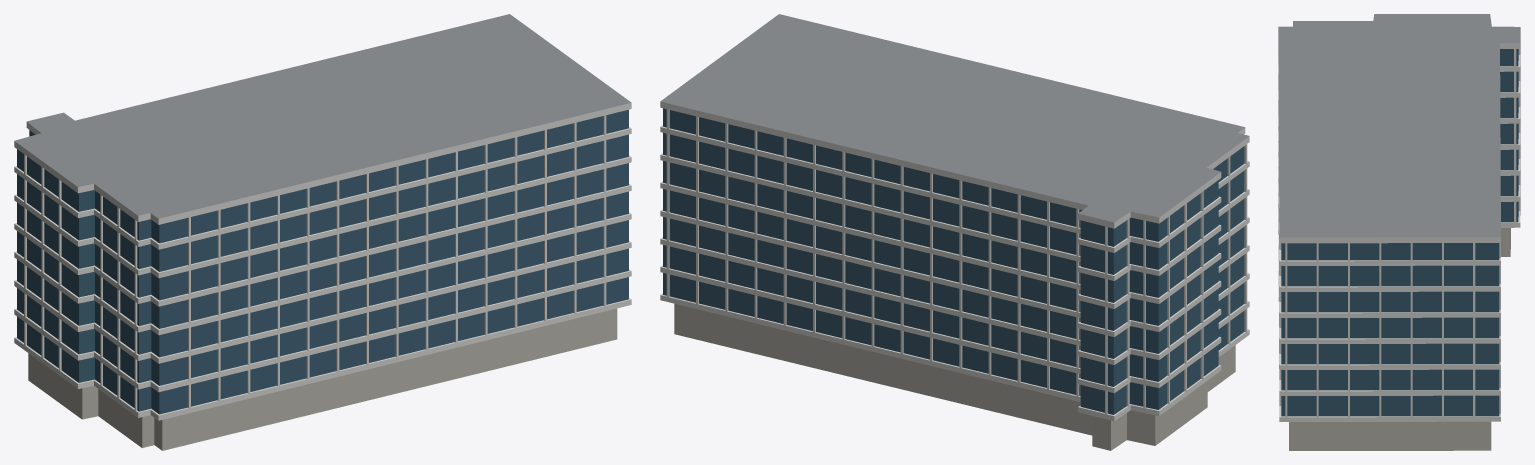
File: bennett_federal_building.glb
3 views of the same model, side by side, from view 1: azimuth 30°, elevation 25°; view 2: azimuth 150°, elevation 25°; view 3: azimuth 270°, elevation 25° (orthographic). The views are drawn at different scales.
Parts seen in each view (by area): view 1: Bennett_Federal_Building; view 2: Bennett_Federal_Building; view 3: Bennett_Federal_Building.
Boxes of the visible parts, box(x1,y1,x2,y2) form: Bennett_Federal_Building: box(14, 14, 631, 450); Bennett_Federal_Building: box(660, 14, 1249, 450); Bennett_Federal_Building: box(1278, 14, 1520, 450).
Bounding box in the file's own units: 101 × 46 × 46.43.
